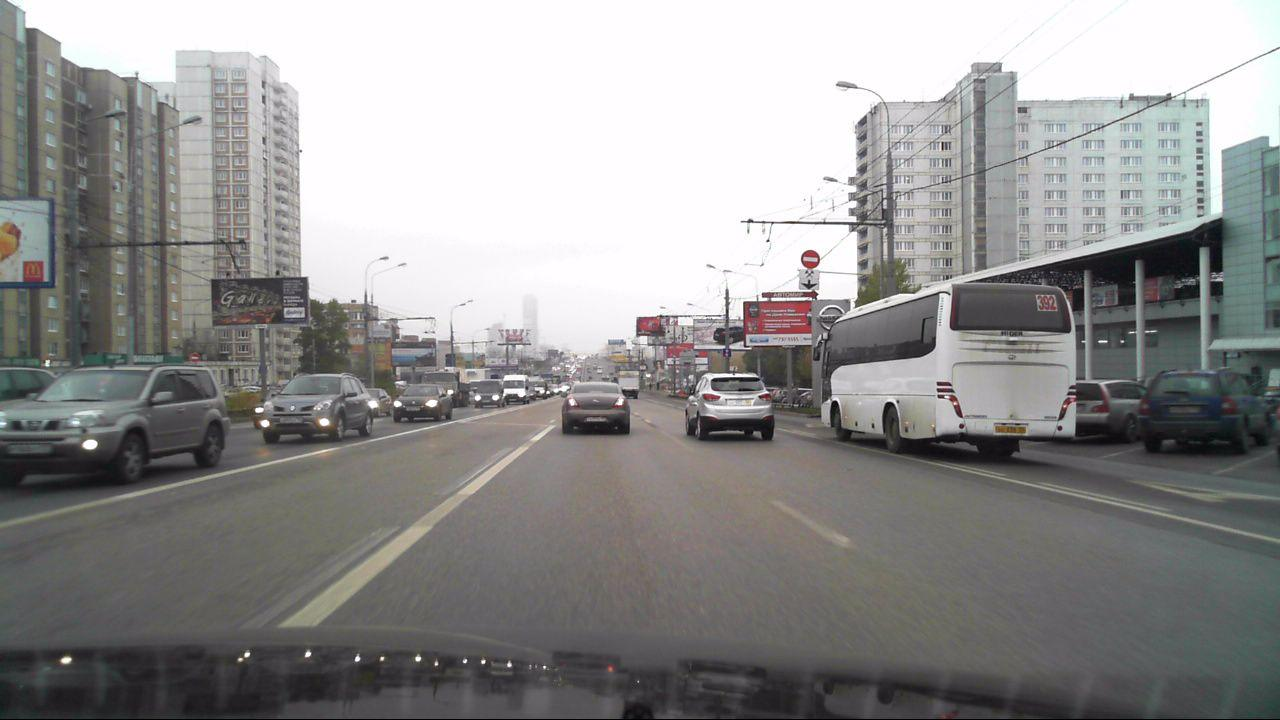3_1: (801, 249, 819, 268)
8_14: (798, 279, 820, 291)
8_5_2: (799, 268, 820, 279)
